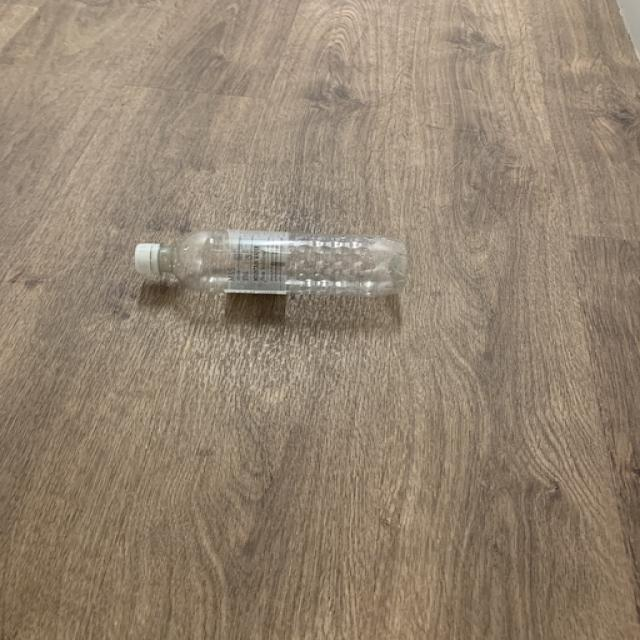Waste: (134, 230, 408, 297)
